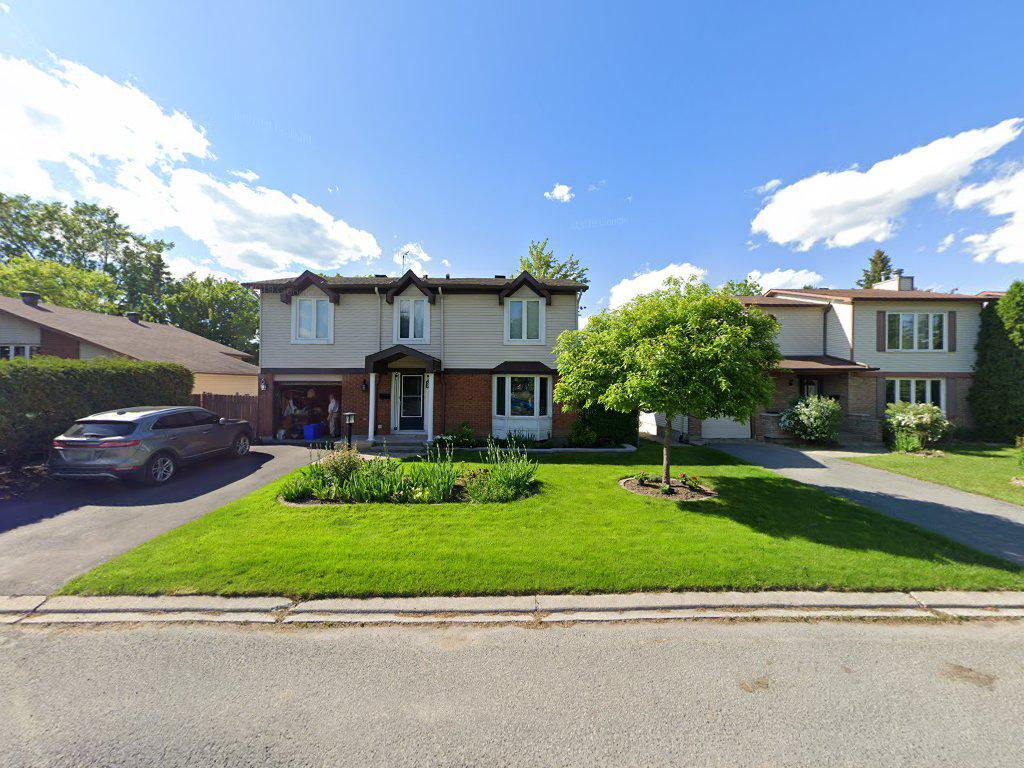trunk: (659, 410, 674, 492)
